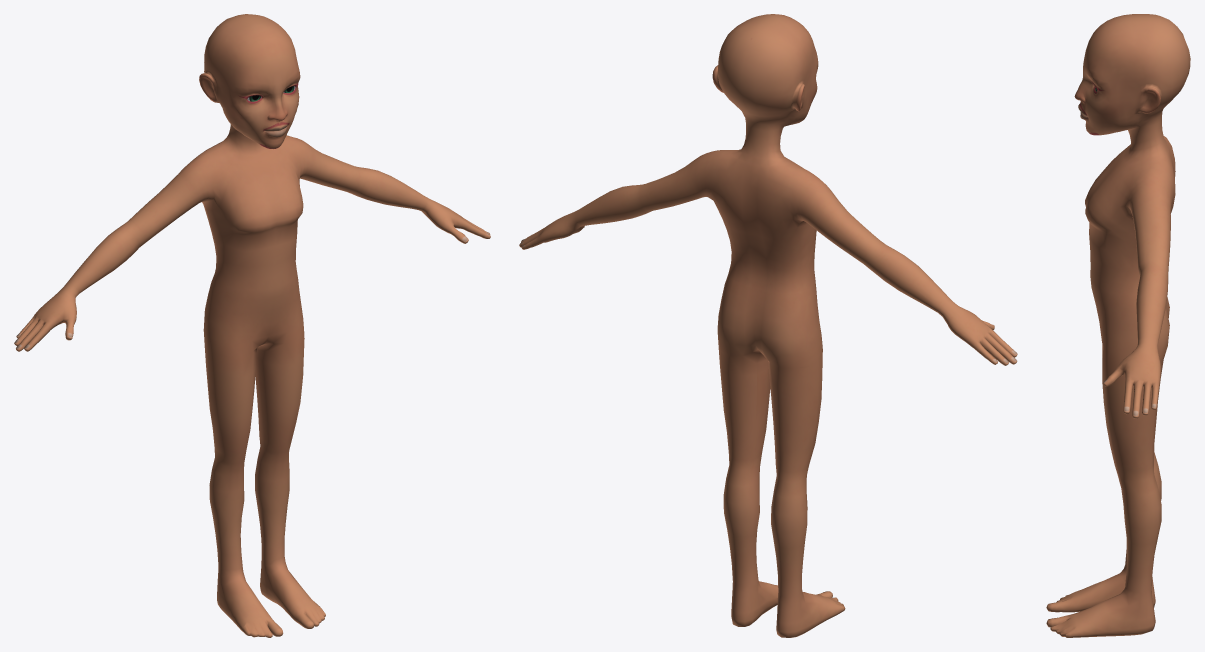
Rendered from frame_0093.glb.
The picture shows the model from 3 angles, left to right: view 1: azimuth 30°, elevation 25°; view 2: azimuth 150°, elevation 25°; view 3: azimuth 270°, elevation 25°; orthographic projection. The views are drawn at different scales.
Visible parts, largest first — view 1: frame_0093_head_geo; view 2: frame_0093_head_geo; view 3: frame_0093_head_geo.
Part boxes in pixels (left/top/right/bottom): frame_0093_head_geo: left=14, top=14, right=490, bottom=637; frame_0093_head_geo: left=519, top=14, right=1017, bottom=637; frame_0093_head_geo: left=1046, top=14, right=1190, bottom=637.
Bounding box in the file's own units: 1.28 × 1.5 × 0.3253.
3 materials, 3 textured.
